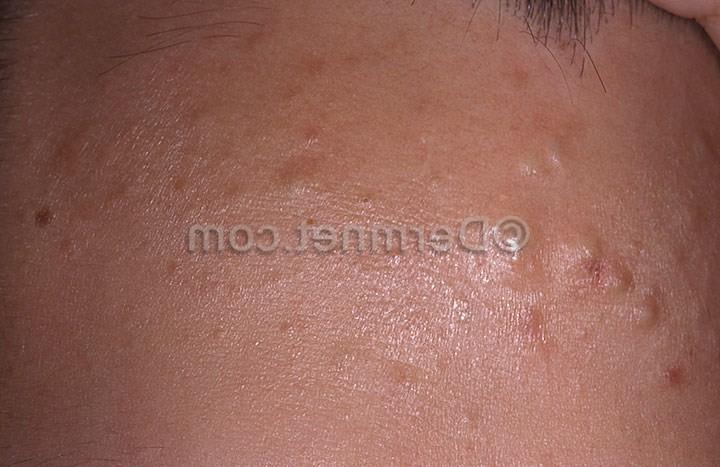Acne: (62, 112, 258, 208), (554, 208, 680, 332), (268, 120, 331, 203)
